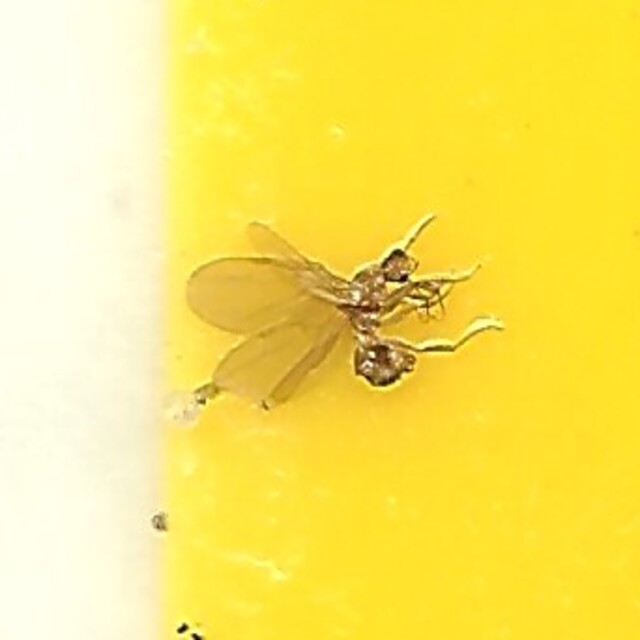Hymenoptera: (187, 218, 453, 422)
